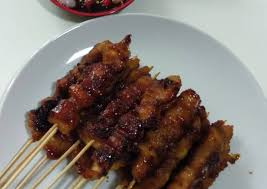sate: (17, 34, 254, 189)
